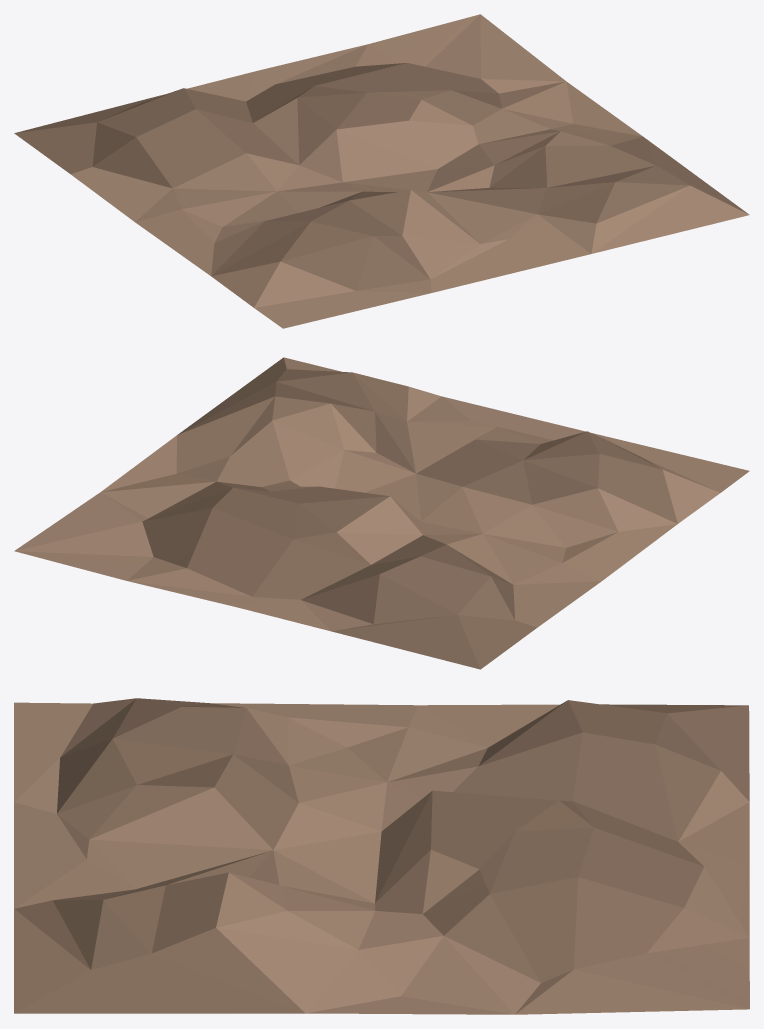
The model's file is SM_shoal_02.glb.
3 renders of one model, top to bottom at view 1: azimuth 30°, elevation 25°; view 2: azimuth 150°, elevation 25°; view 3: azimuth 270°, elevation 25°, orthographic. The views are drawn at different scales.
Visible parts, largest first — view 1: SM_shoal_02; view 2: SM_shoal_02; view 3: SM_shoal_02.
Part boxes in pixels (x1=…): SM_shoal_02: x1=14, y1=14, x2=749, y2=328; SM_shoal_02: x1=14, y1=357, x2=749, y2=669; SM_shoal_02: x1=14, y1=698, x2=749, y2=1014.
Size of the model in its own units: 12.01 by 1.21 by 12.01.
Materials: 1 (1 with a texture image).
